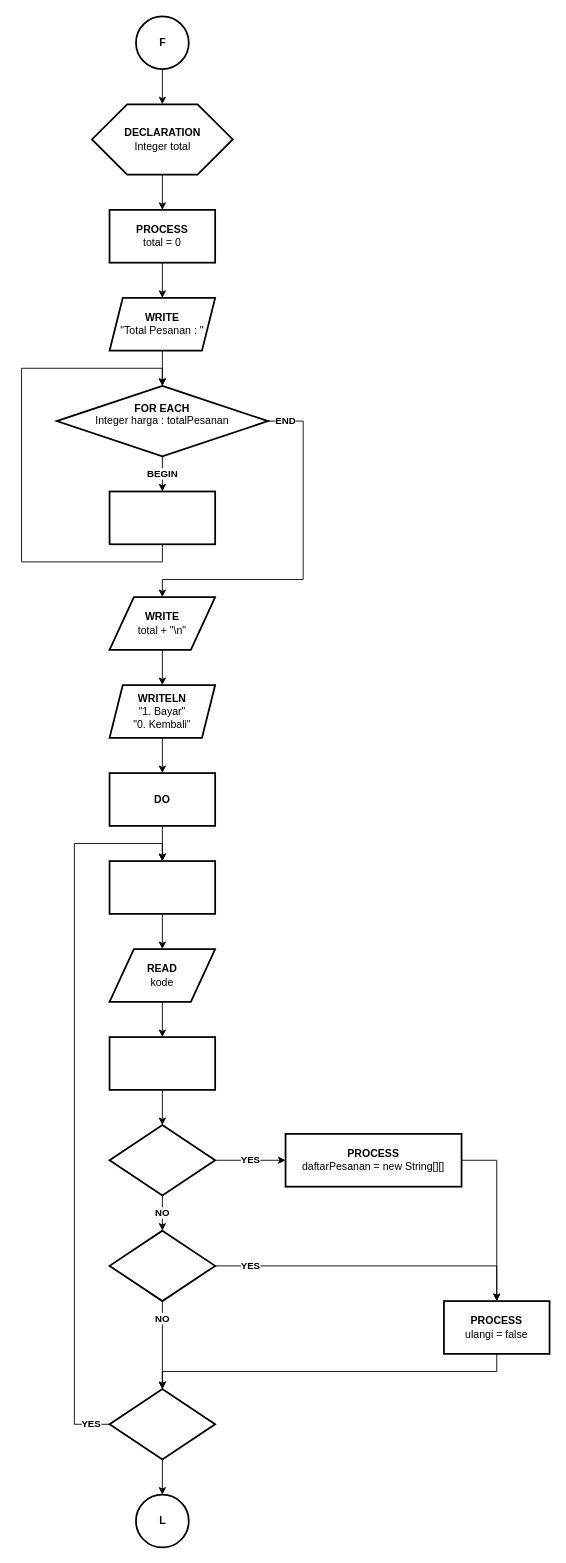
This 566x1563 diagram has some shape labels left out. Each missing label, with the box of its shape:
CASE 0: (108, 1229, 216, 1302)
CASE 1: (108, 1124, 216, 1196)
PROCESS total += harga: (108, 490, 216, 545)
PROCESS ulangi = true: (108, 860, 216, 914)
SWITCH kode: (108, 1036, 216, 1090)
WHILE ulangi: (108, 1388, 216, 1460)
